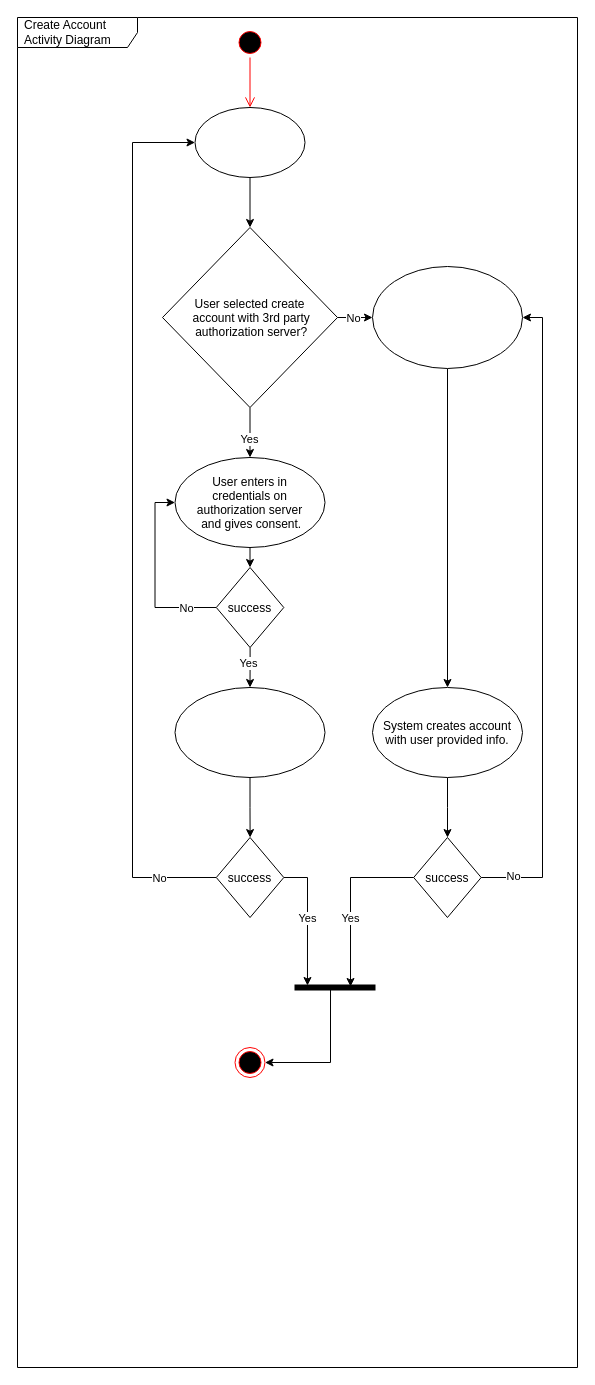
The diagram is 595 pixels wide and 1385 high, and some of its shapes have lost their labels. The centre of each missing label's shape, as x and y in pixels:
System creates account with OAuth provided info.: [249,732]
User enters create account form details: [447,317]
User selects create account type: [249,142]
